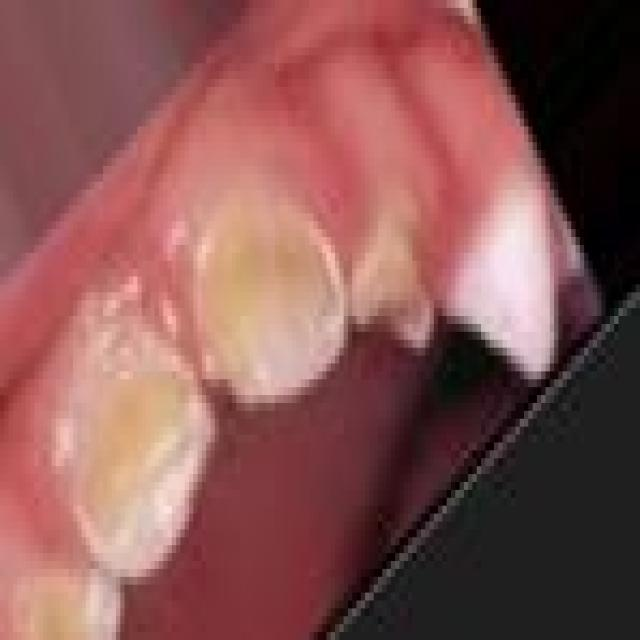caries: (188, 178, 352, 405), (68, 344, 205, 572), (348, 221, 438, 364), (9, 547, 138, 640)
